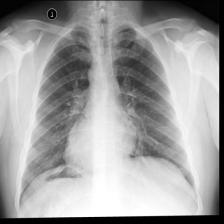normal: (17, 22, 199, 209)
